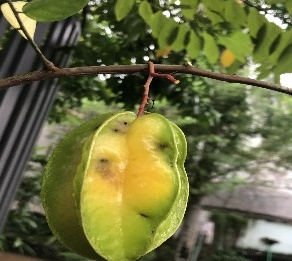Khe: (39, 109, 190, 260)
